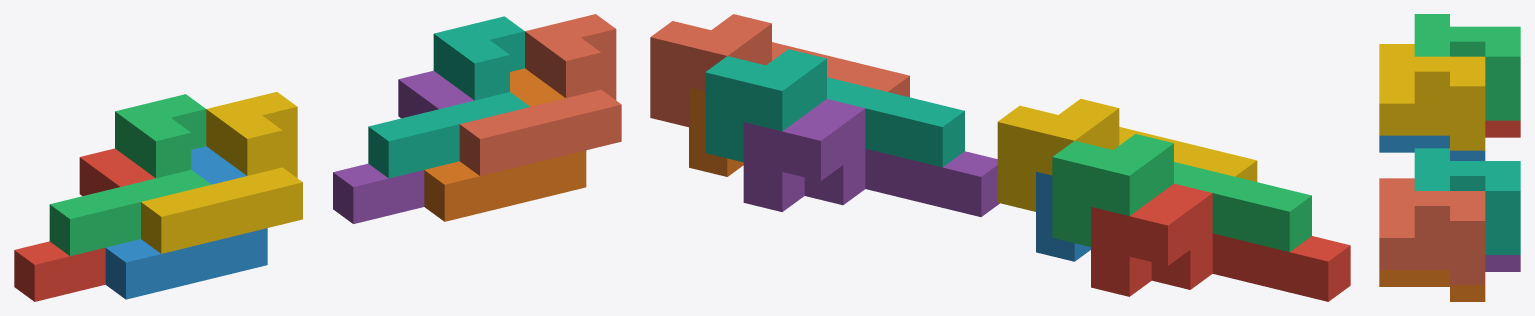
Rendered from tiling.obj.
3 renders of one model, left to right at view 1: azimuth 30°, elevation 25°; view 2: azimuth 150°, elevation 25°; view 3: azimuth 270°, elevation 25°, orthographic. The views are drawn at different scales.
Parts seen in each view (by area): view 1: copy_1_domain_8, copy_1_domain_4, copy_1_domain_3, copy_1_domain_7, copy_1_domain_2, copy_1_domain_6, copy_1_domain_1, copy_1_domain_5; view 2: copy_1_domain_1, copy_1_domain_5, copy_1_domain_7, copy_1_domain_3, copy_1_domain_4, copy_1_domain_8, copy_1_domain_2, copy_1_domain_6; view 3: copy_1_domain_4, copy_1_domain_8, copy_1_domain_3, copy_1_domain_7, copy_1_domain_6, copy_1_domain_2, copy_1_domain_1, copy_1_domain_5.
Part boxes in pixels (x1,y1,x2,y2): copy_1_domain_8: (459, 14, 621, 175); copy_1_domain_4: (141, 92, 302, 253); copy_1_domain_3: (49, 94, 211, 256); copy_1_domain_7: (368, 16, 529, 178); copy_1_domain_2: (105, 146, 267, 299); copy_1_domain_6: (424, 68, 586, 221); copy_1_domain_1: (14, 148, 155, 301); copy_1_domain_5: (333, 70, 473, 223); copy_1_domain_1: (1091, 183, 1350, 301); copy_1_domain_5: (743, 99, 999, 216); copy_1_domain_7: (705, 49, 964, 167); copy_1_domain_3: (1052, 134, 1311, 251); copy_1_domain_4: (997, 98, 1257, 211); copy_1_domain_8: (650, 14, 909, 127); copy_1_domain_2: (1036, 171, 1090, 261); copy_1_domain_6: (689, 87, 743, 176); copy_1_domain_4: (1379, 44, 1485, 150); copy_1_domain_8: (1379, 178, 1485, 284); copy_1_domain_3: (1414, 14, 1520, 120); copy_1_domain_7: (1414, 148, 1520, 254); copy_1_domain_6: (1379, 270, 1485, 301); copy_1_domain_2: (1379, 135, 1485, 160); copy_1_domain_1: (1485, 120, 1520, 137); copy_1_domain_5: (1485, 255, 1520, 271).
Bounding box in the file's own units: 17 × 3 × 4.
